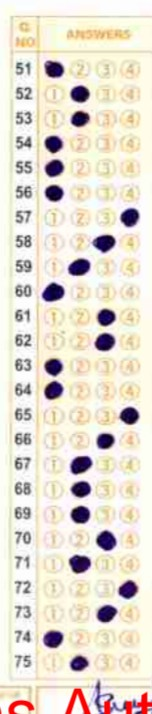filled circles: (96, 530, 116, 550), (68, 258, 90, 276), (42, 283, 63, 301), (69, 555, 90, 573), (93, 235, 115, 252), (70, 456, 91, 473), (45, 159, 64, 177), (120, 208, 139, 226), (119, 580, 137, 598), (120, 406, 138, 424), (44, 381, 62, 399), (97, 605, 116, 622), (95, 333, 114, 350), (43, 630, 62, 647), (71, 506, 90, 523), (97, 308, 115, 325), (71, 85, 89, 102), (44, 358, 62, 375), (45, 60, 63, 77), (45, 135, 62, 153), (71, 481, 90, 497), (70, 655, 88, 671), (45, 185, 63, 201), (71, 111, 89, 126), (97, 433, 114, 448)
